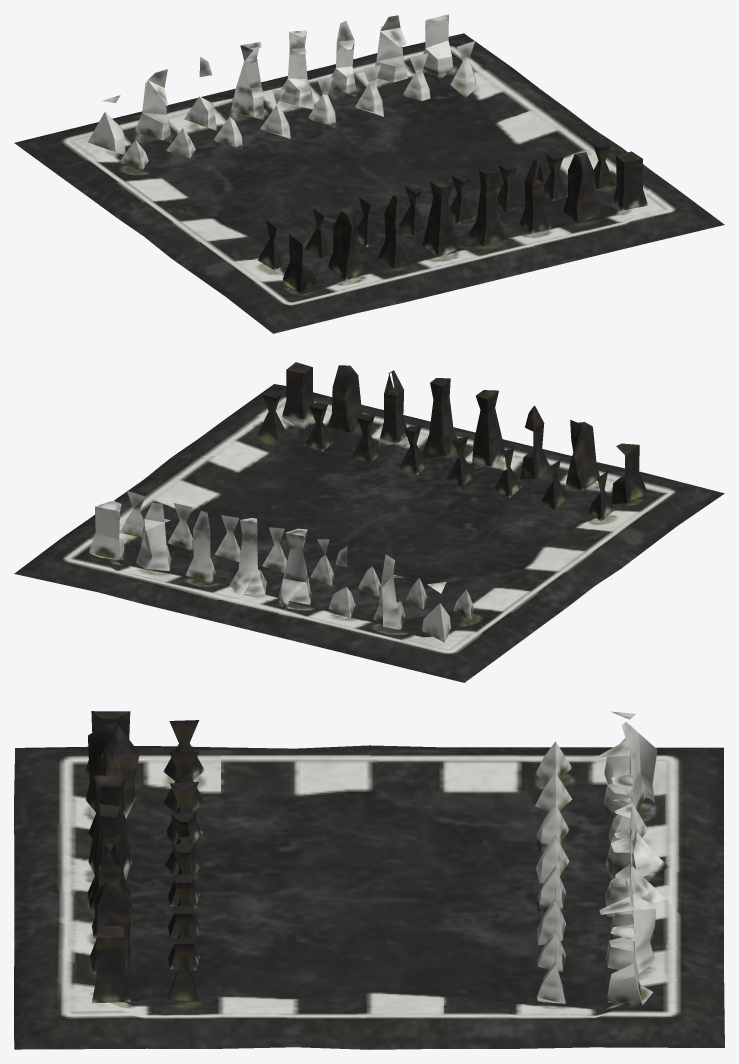
Rendered from chess.glb.
The picture shows the model from 3 angles, top to bottom: view 1: azimuth 30°, elevation 25°; view 2: azimuth 150°, elevation 25°; view 3: azimuth 270°, elevation 25°; orthographic projection. The views are drawn at different scales.
Parts seen in each view (by area): view 1: mesh; view 2: mesh; view 3: mesh.
Part boxes in pixels (x1=…): mesh: x1=14, y1=14, x2=724, y2=333; mesh: x1=14, y1=362, x2=724, y2=682; mesh: x1=14, y1=711, x2=724, y2=1049.
Size of the model in its own units: 0.6343 by 0.1123 by 0.6345.
1 material, 1 textured.
